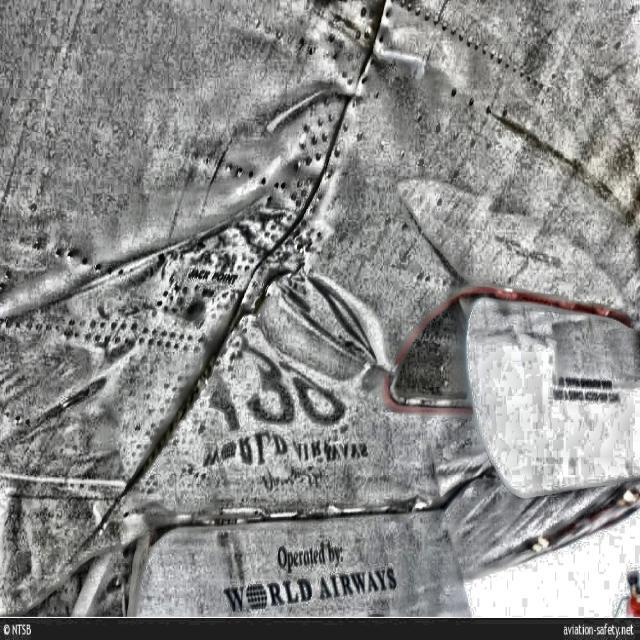crack: (230, 255, 308, 330)
